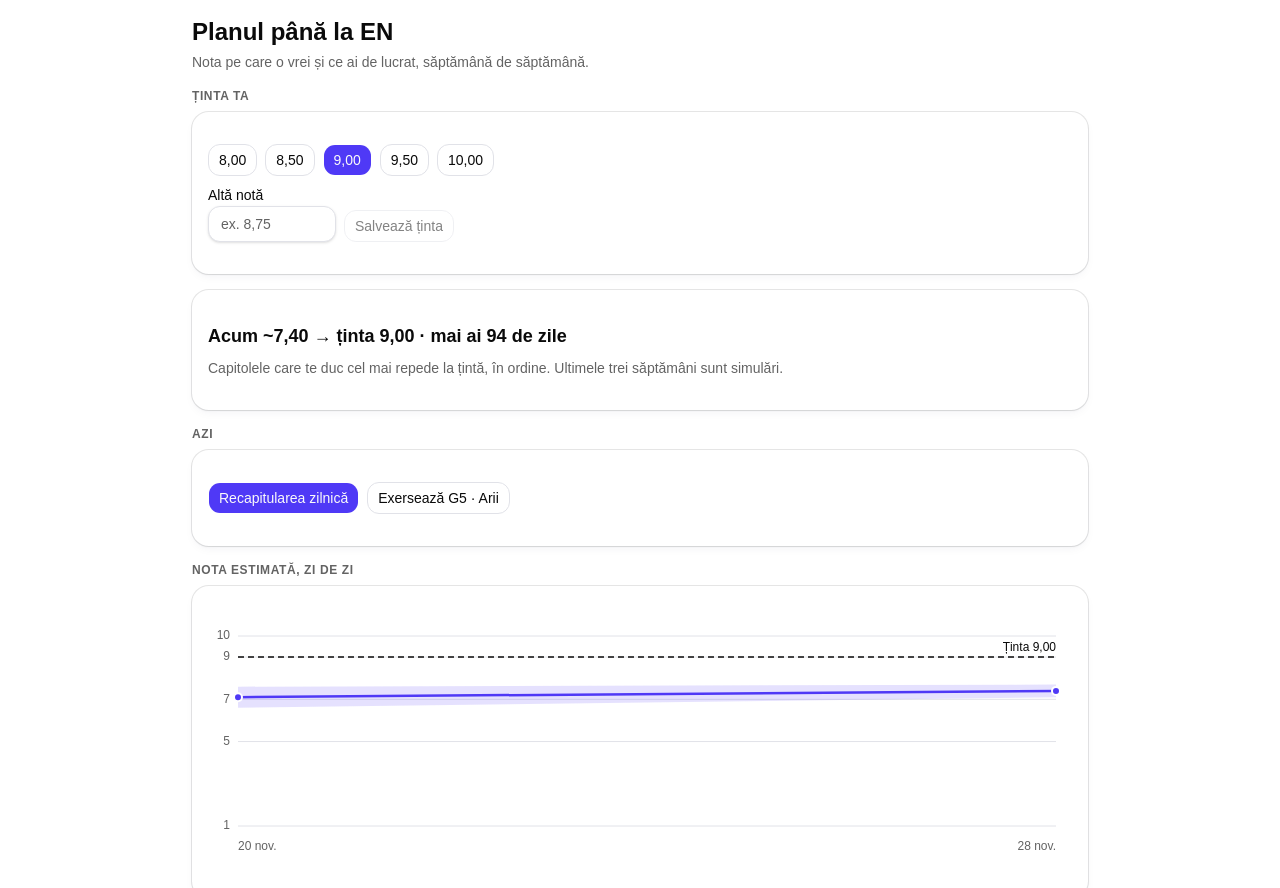
Test case: StudyPlanPage › marks the current target and changes it with one tap
Click the button "9,50": click(404, 160) [380, 144, 429, 176]
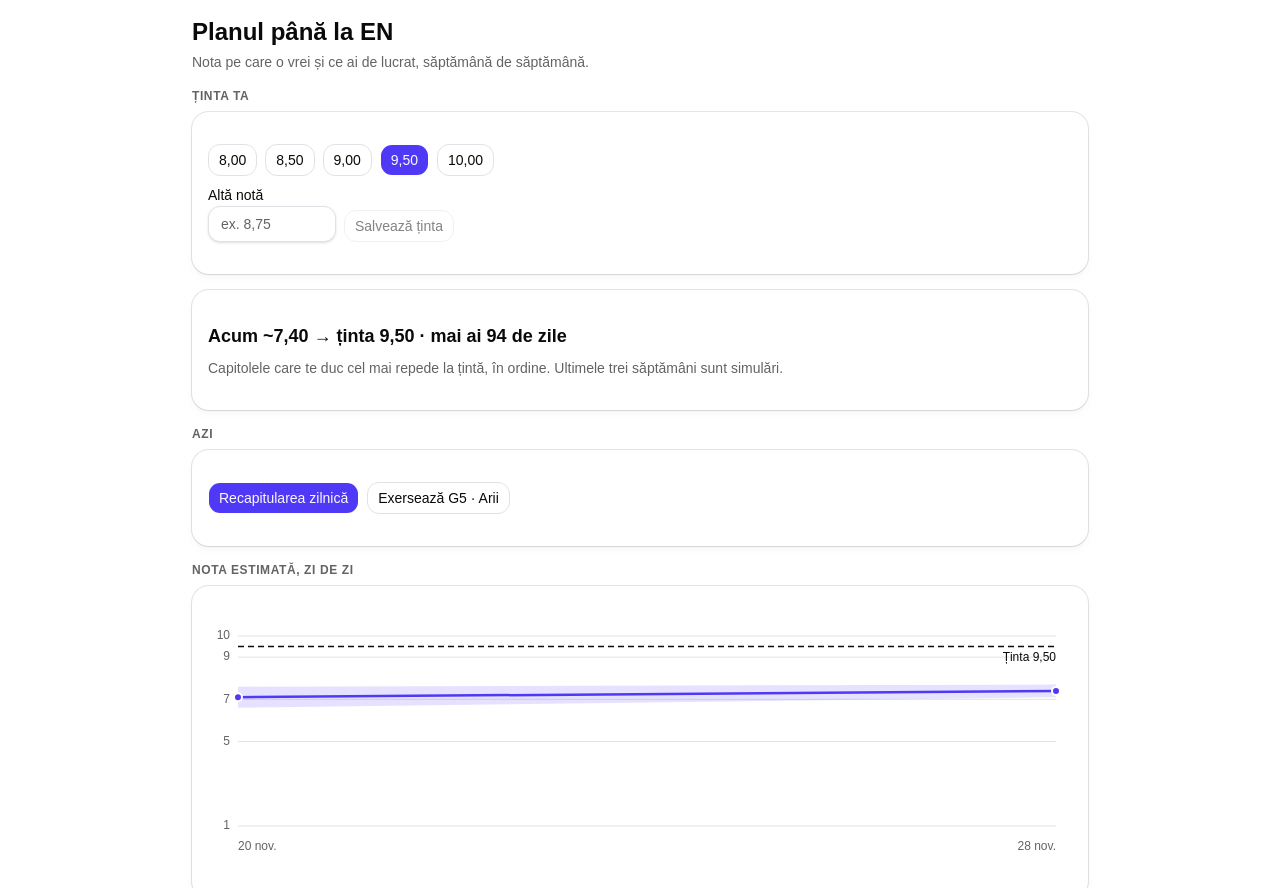
Check: the text with test id "study-plan-goal-line" shows "ținta 9,50", box [208, 326, 567, 346]
